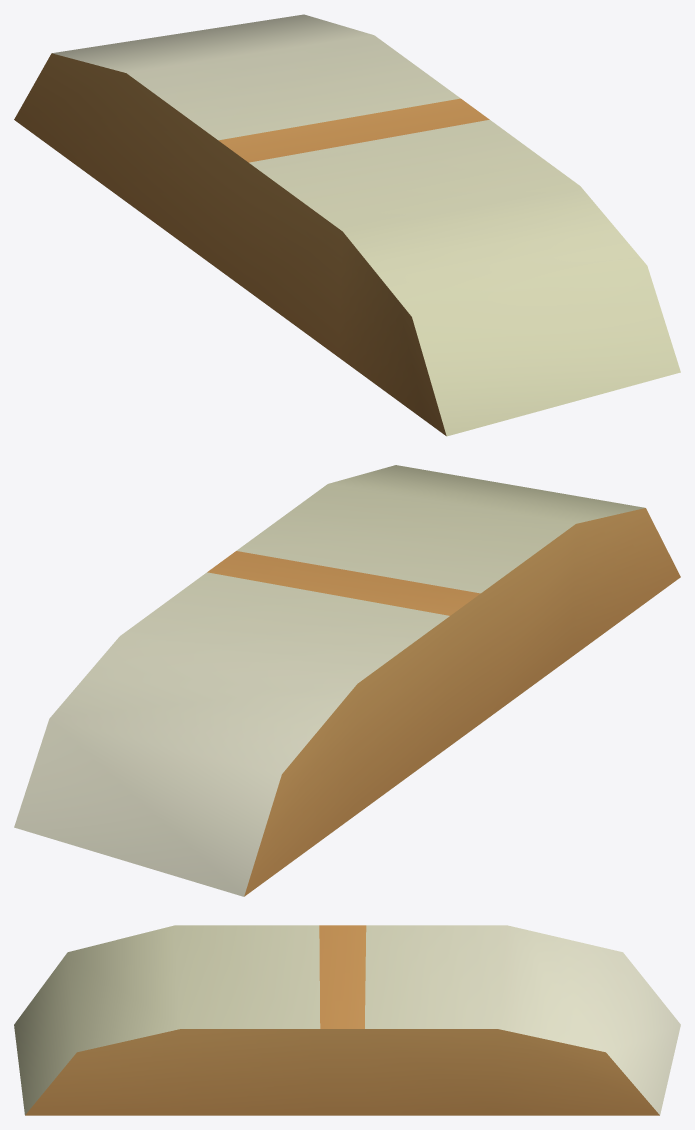
File: Halibut_Meat_02.glb
3 renders of one model, top to bottom at view 1: azimuth 30°, elevation 25°; view 2: azimuth 150°, elevation 25°; view 3: azimuth 270°, elevation 25°, orthographic. The views are drawn at different scales.
Parts seen in each view (by area): view 1: Halibut_Meat_02; view 2: Halibut_Meat_02; view 3: Halibut_Meat_02.
Part boxes in pixels (x1,y1,x2,y2): Halibut_Meat_02: (14,14,680,436); Halibut_Meat_02: (14,465,680,896); Halibut_Meat_02: (14,925,680,1115).
Size of the model in its own units: 0.12 by 0.0611 by 0.3718.
1 material, 1 textured.
